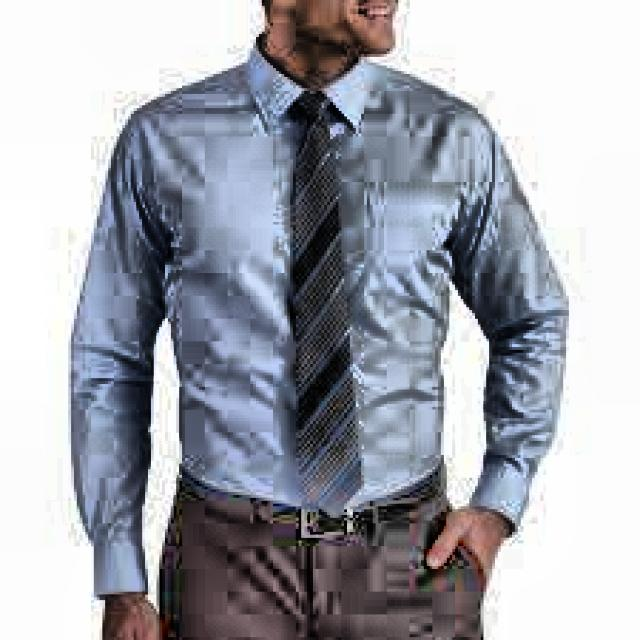Tie: (284, 91, 362, 515)
